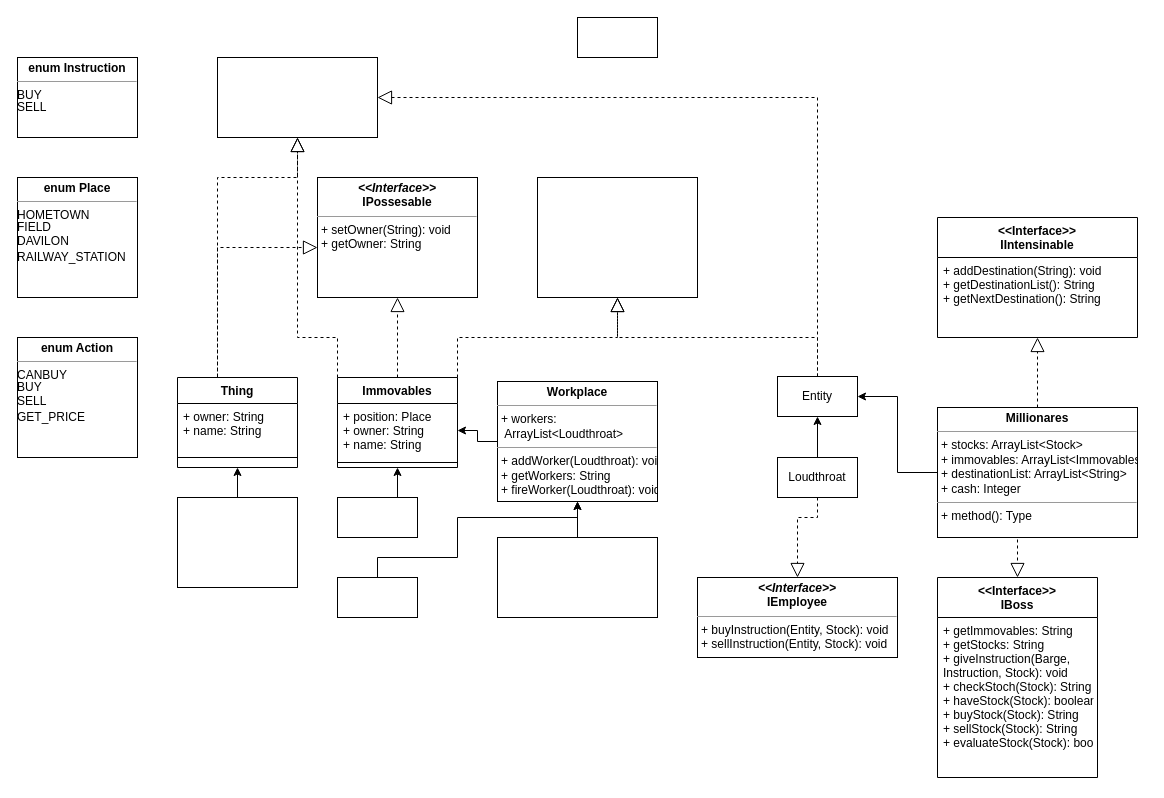
The diagram is 1164 pixels wide and 798 high, and some of its shapes have lost their labels. Here are the shapes that lost their labels. From the top down, the centre of each, then its label:
the point at 617,37: Project
the point at 297,97: <<Interface>> IName + setName(String): void + getName: String
the point at 617,237: <<Interface>> IPositinable + setPosition(Place): void + getPosition: String
the point at 377,517: Home
the point at 237,542: Stock + price: Integer + setPrice(Integer): void + getPrice(): Integer
the point at 377,597: PastaFactory
the point at 577,577: Barge + applyInstructions(IBoss, Instruction, Stock): String
